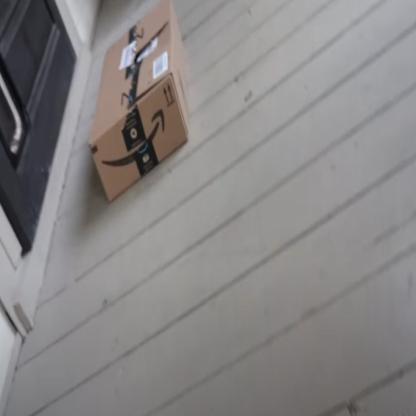package: (87, 0, 191, 207)
